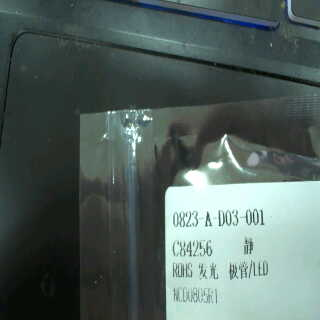LED: (196, 260, 274, 282)
